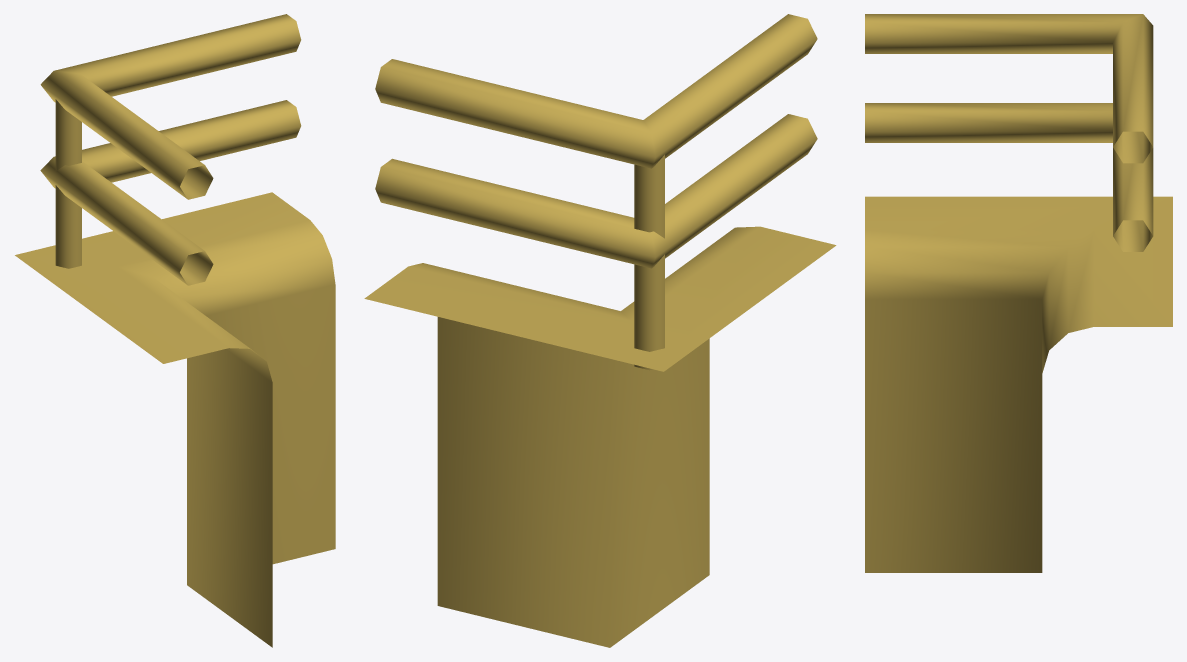
File: Dock barriers 4.fbx
3 views of the same model, side by side, from view 1: azimuth 30°, elevation 25°; view 2: azimuth 150°, elevation 25°; view 3: azimuth 270°, elevation 25° (orthographic). The views are drawn at different scales.
Visible parts, largest first — view 1: polySurface16; view 2: polySurface16; view 3: polySurface16.
Part boxes in pixels (box(x1,y1,x2,y2)): polySurface16: box(15, 14, 335, 647); polySurface16: box(364, 14, 836, 647); polySurface16: box(865, 14, 1172, 572).
Size of the model in its own units: 86.89 by 161 by 86.89.
